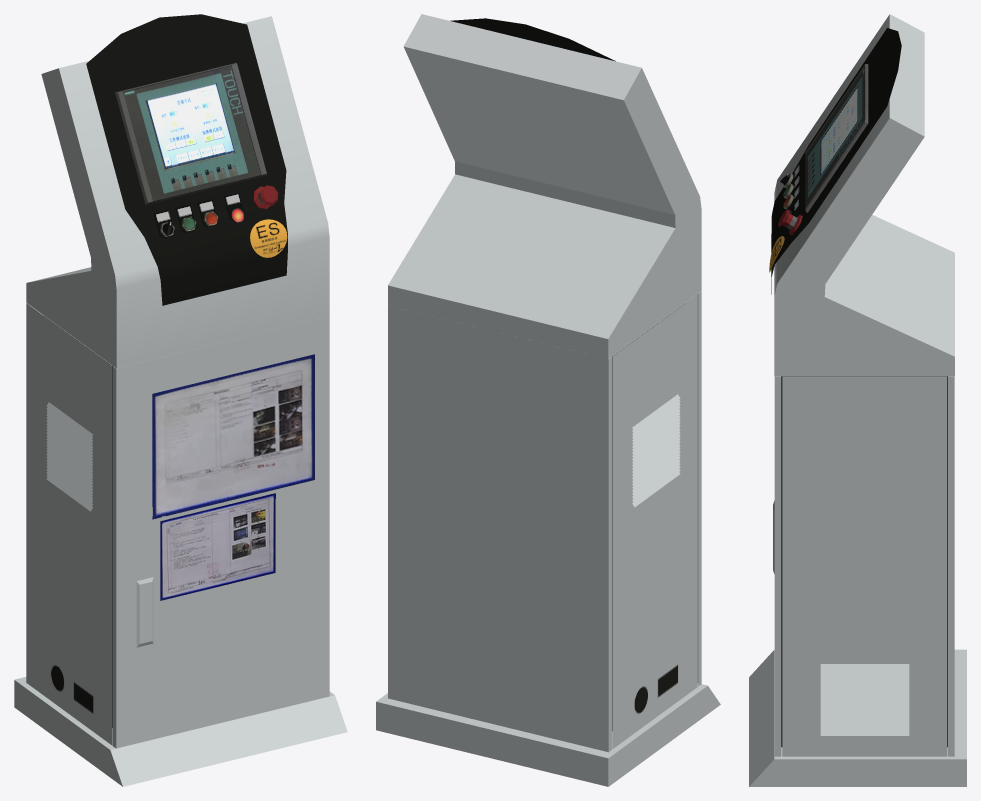
The model's file is YF_LS_peidianxiang.FBX.
The picture shows the model from 3 angles, left to right: view 1: azimuth 30°, elevation 25°; view 2: azimuth 150°, elevation 25°; view 3: azimuth 270°, elevation 25°; orthographic projection. The views are drawn at different scales.
Parts seen in each view (by area): view 1: YF_Model_LS_peidianxiang_01, YF_Model_LS_peidianxiang_02; view 2: YF_Model_LS_peidianxiang_01; view 3: YF_Model_LS_peidianxiang_01, YF_Model_LS_peidianxiang_02.
Boxes of the visible parts, x1,y1,x2,y2 form: YF_Model_LS_peidianxiang_01: (14, 14, 347, 786); YF_Model_LS_peidianxiang_02: (115, 63, 314, 600); YF_Model_LS_peidianxiang_01: (376, 14, 720, 786); YF_Model_LS_peidianxiang_01: (749, 14, 966, 786); YF_Model_LS_peidianxiang_02: (769, 64, 868, 272).
Size of the model in its own units: 56.58 by 165 by 47.44.
Materials: 2 (2 with a texture image).
